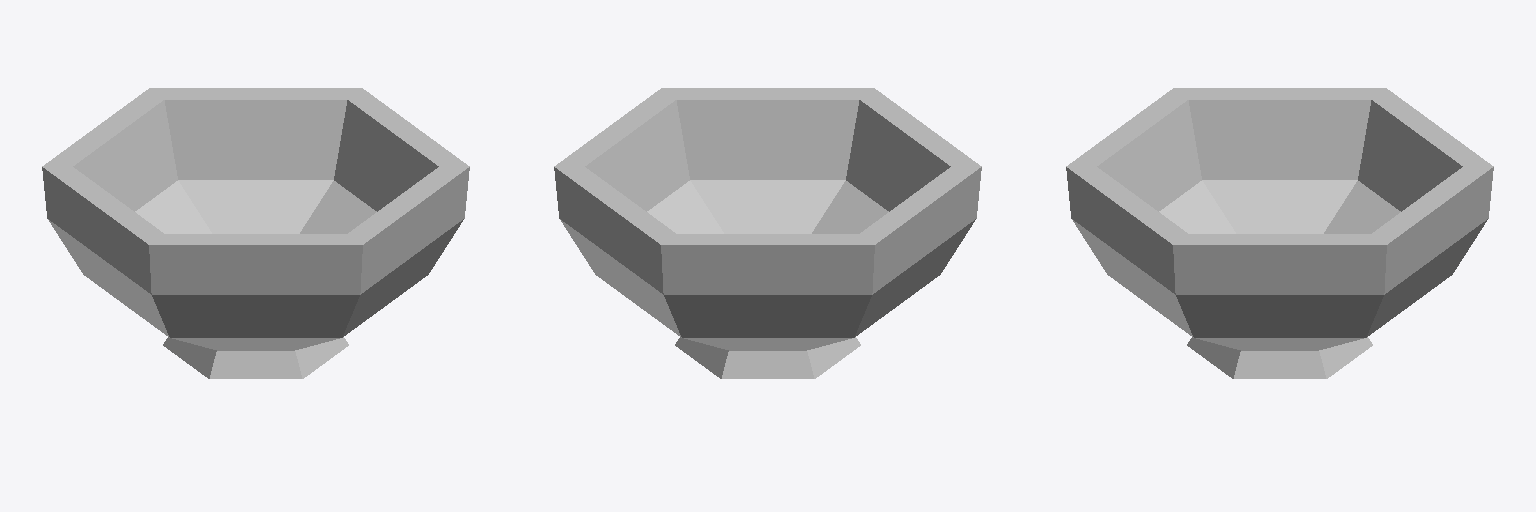
File: mortar.obj
3 renders of one model, left to right at view 1: azimuth 30°, elevation 25°; view 2: azimuth 150°, elevation 25°; view 3: azimuth 270°, elevation 25°, orthographic.
Parts seen in each view (by area): view 1: mortar; view 2: mortar; view 3: mortar.
Part boxes in pixels (x1,y1,x2,y2): mortar: (42, 88, 469, 378); mortar: (554, 88, 981, 378); mortar: (1066, 88, 1493, 378).
Bounding box in the file's own units: 0.3955 × 0.2104 × 0.4567.